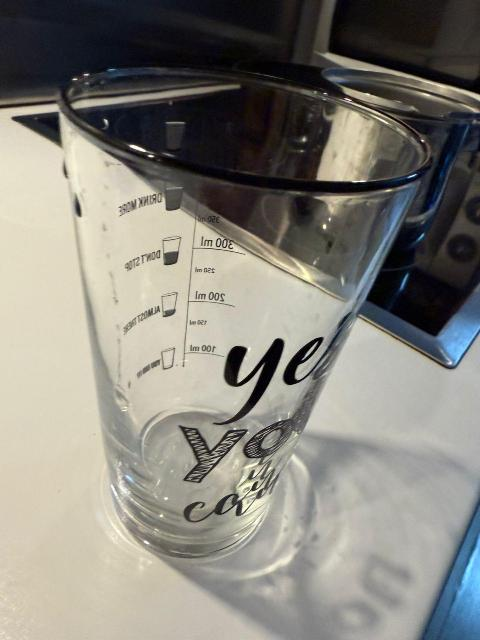Cam: (47, 64, 432, 561)
